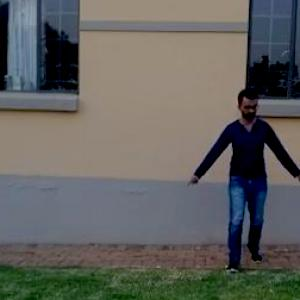land: (183, 87, 300, 282)
